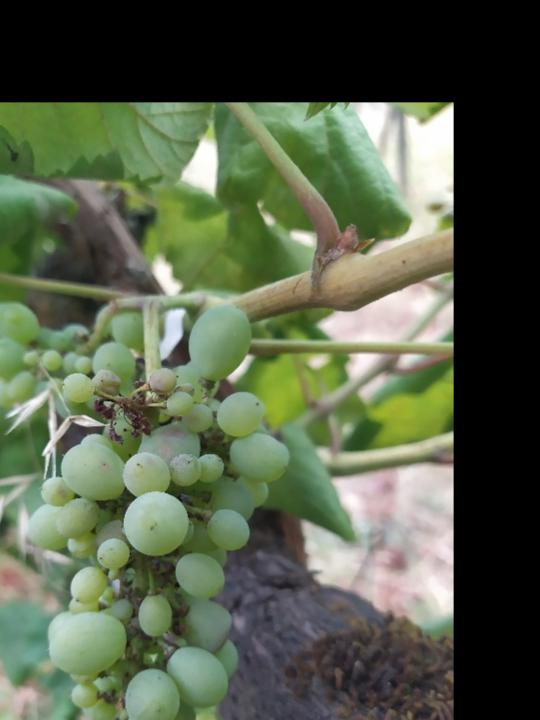grape: (24, 302, 294, 720)
